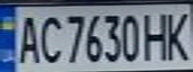0: (118, 10, 145, 62)
3: (103, 11, 124, 63)
6: (81, 11, 106, 64)
7: (60, 11, 84, 64)
A: (12, 11, 42, 65)
C: (36, 11, 63, 65)
H: (142, 8, 172, 62)
K: (160, 7, 193, 61)
